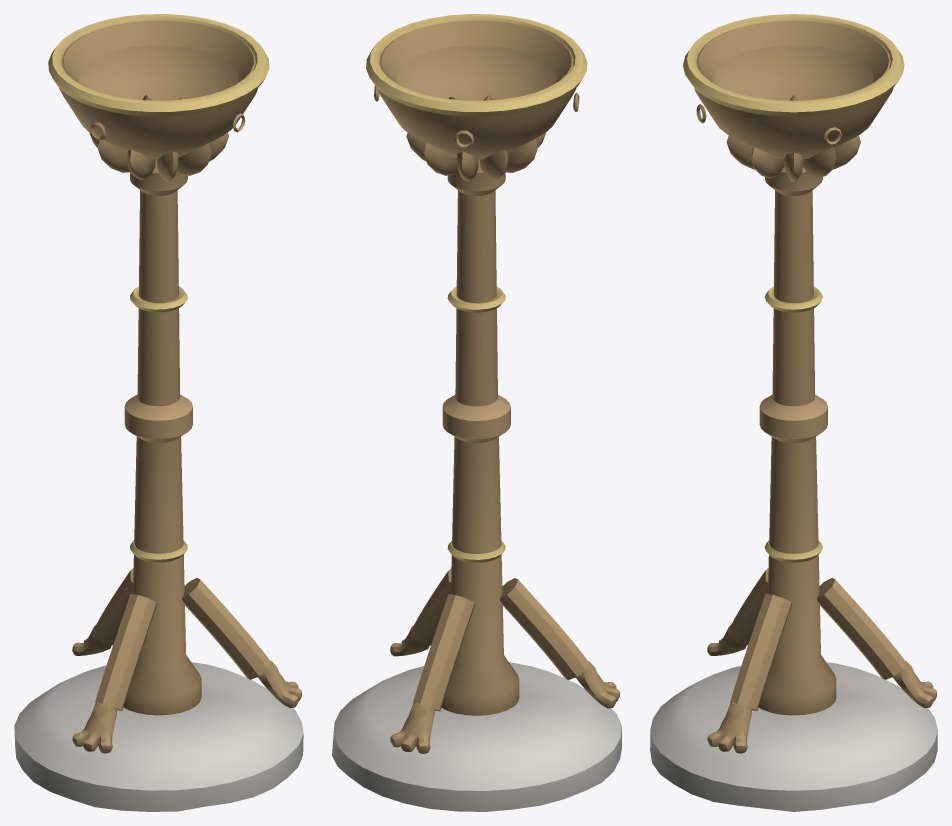
The model's file is obj_kit_torchstand.glb.
3 renders of one model, left to right at view 1: azimuth 30°, elevation 25°; view 2: azimuth 150°, elevation 25°; view 3: azimuth 270°, elevation 25°, orthographic.
Visible parts, largest first — view 1: plinth, shaft, bowl, Torus.002, leg.001, leg.002, paw.001, leg, paw.002, Sphere.008, Torus.001, Sphere.005 (+3 smaller); view 2: plinth, shaft, bowl, Torus.002, leg, leg.001, paw, leg.002, paw.001, Sphere.002, Torus.001, Sphere.005 (+3 smaller); view 3: plinth, shaft, bowl, Torus.002, leg.002, leg, paw.002, leg.001, paw, Sphere.001, Sphere.009, Torus.001 (+4 smaller).
Part boxes in pixels (<box>): plinth: <box>14,662,303,811</box>; shaft: <box>123,159,201,715</box>; bowl: <box>59,20,258,159</box>; Torus.002: <box>48,14,269,116</box>; leg.001: <box>95,594,156,710</box>; leg.002: <box>182,577,271,679</box>; paw.001: <box>72,702,116,753</box>; leg: <box>95,568,133,645</box>; paw.002: <box>257,660,301,707</box>; Sphere.008: <box>177,143,211,175</box>; Torus.001: <box>130,286,187,312</box>; Sphere.005: <box>97,140,130,172</box>; plinth: <box>332,662,621,811</box>; shaft: <box>441,159,519,715</box>; bowl: <box>377,20,576,159</box>; Torus.002: <box>366,14,587,116</box>; leg: <box>413,594,474,711</box>; leg.001: <box>500,578,589,680</box>; paw: <box>390,702,434,753</box>; leg.002: <box>413,568,451,645</box>; paw.001: <box>575,661,619,708</box>; Sphere.002: <box>424,143,458,175</box>; Torus.001: <box>447,286,505,312</box>; Sphere.005: <box>505,139,537,172</box>; plinth: <box>650,662,937,811</box>; shaft: <box>758,167,836,715</box>; bowl: <box>694,20,892,158</box>; Torus.002: <box>683,14,904,116</box>; leg.002: <box>730,594,791,710</box>; leg: <box>817,578,906,679</box>; paw.002: <box>707,702,751,753</box>; leg.001: <box>730,568,768,645</box>; paw: <box>892,661,936,707</box>; Sphere.001: <box>803,147,836,178</box>; Sphere.009: <box>751,147,784,178</box>; Torus.001: <box>764,286,822,312</box>.
Bounding box in the file's own units: 0.5764 × 1.52 × 0.5734.
